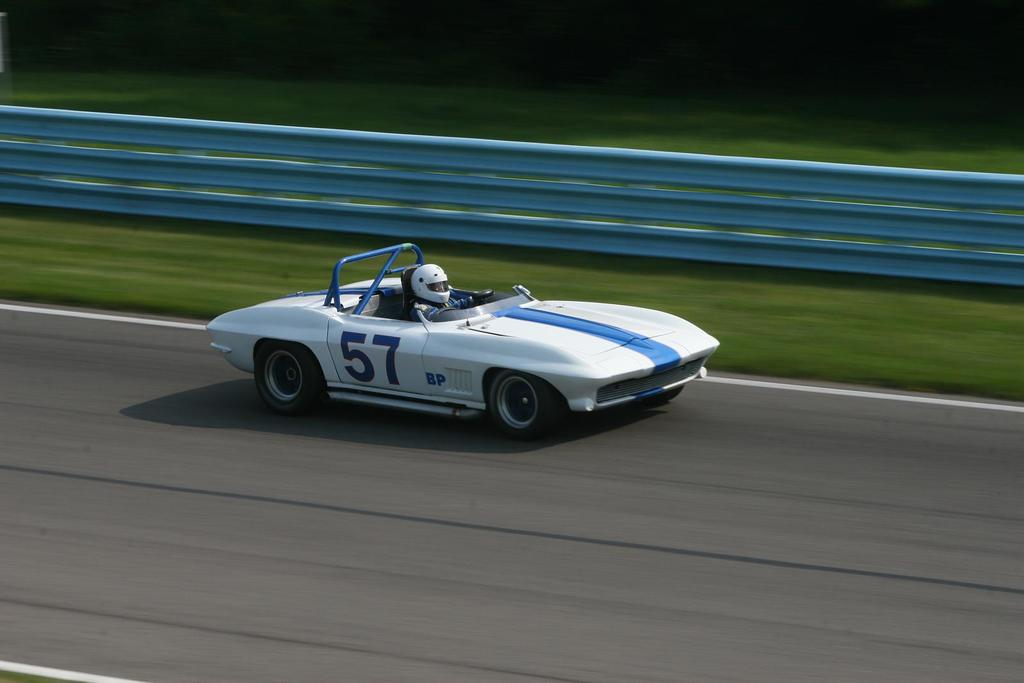Car: (211, 248, 721, 444)
